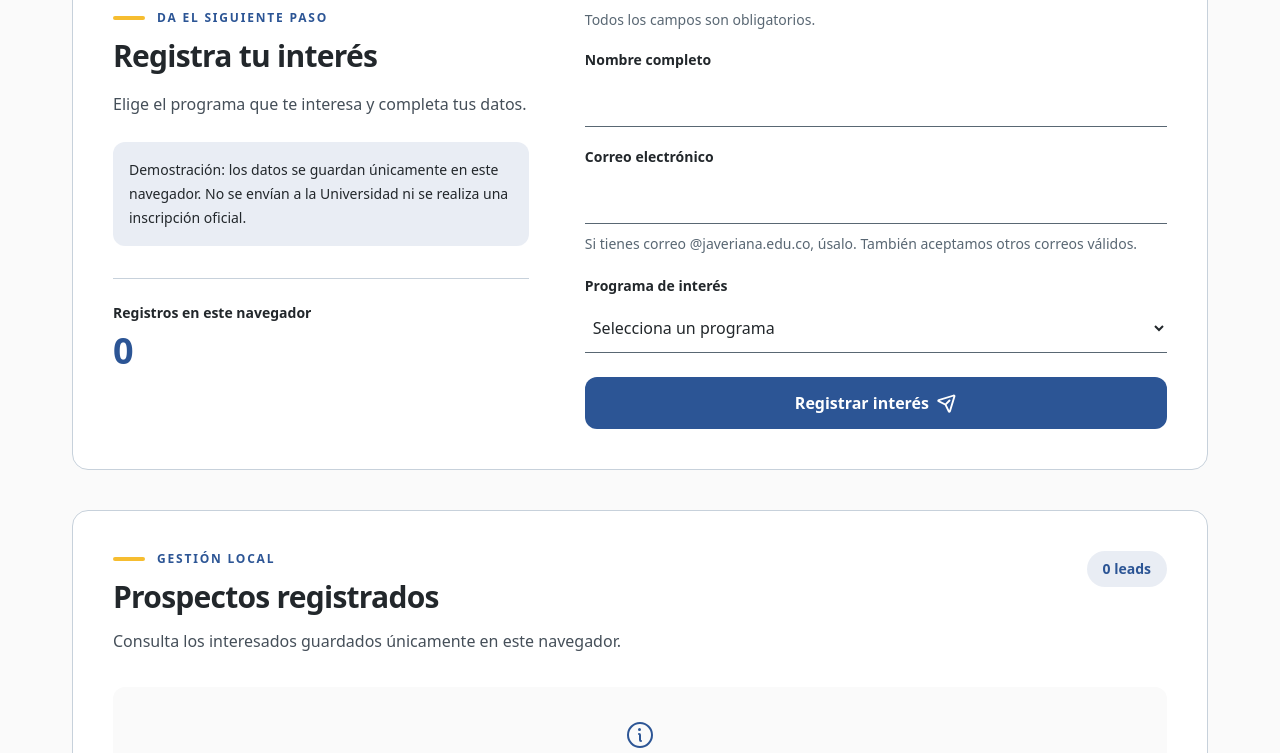
filtros y registro › limpia el error de programa al elegir desde una card tras un envío inválido
The image size is (1280, 753).
(page scrolled)
What coordinates should you click on to do the following:
click the button "Registrar interés"
I would click on:
 (876, 402)
Its box is x1=585 y1=376 x2=1167 y2=428.
(page scrolled)
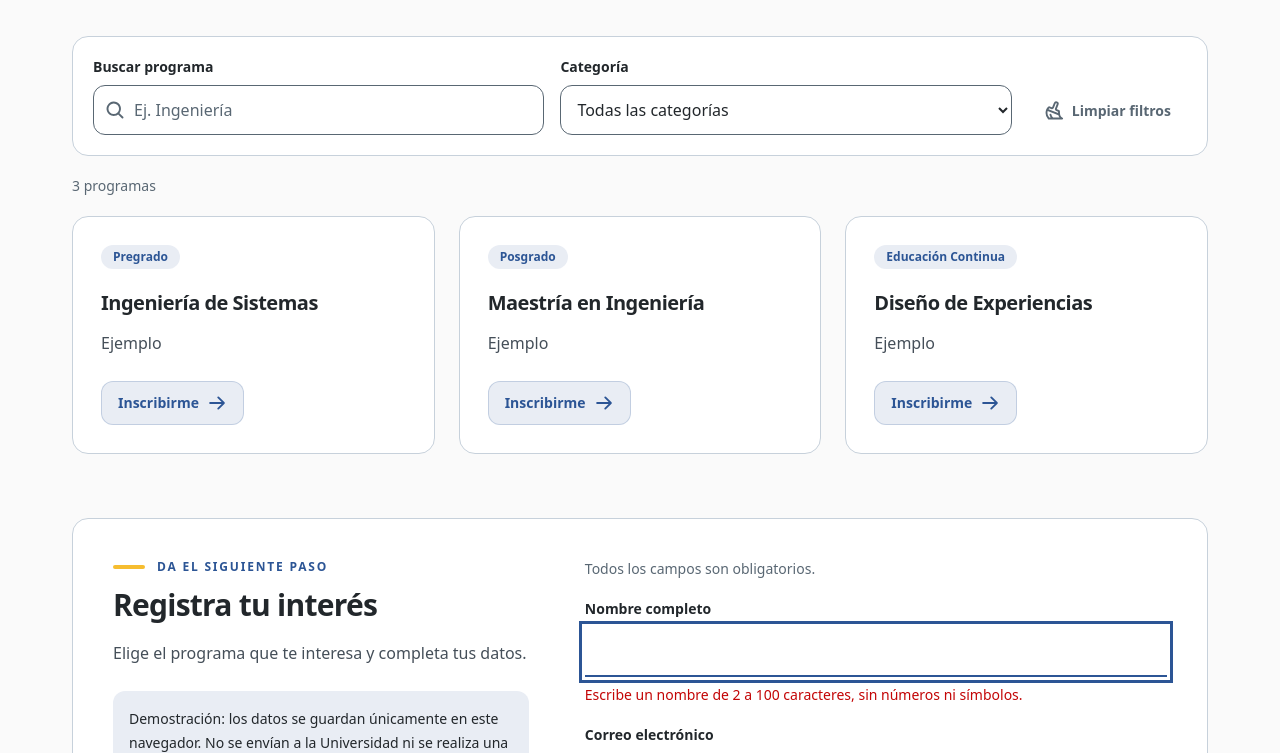
What coordinates should you click on to do the following:
click the button with aria-label "Inscribirme en Ingeniería de Sistemas"
I would click on:
 (172, 402)
Its box is x1=101 y1=380 x2=244 y2=424.
(page scrolled)
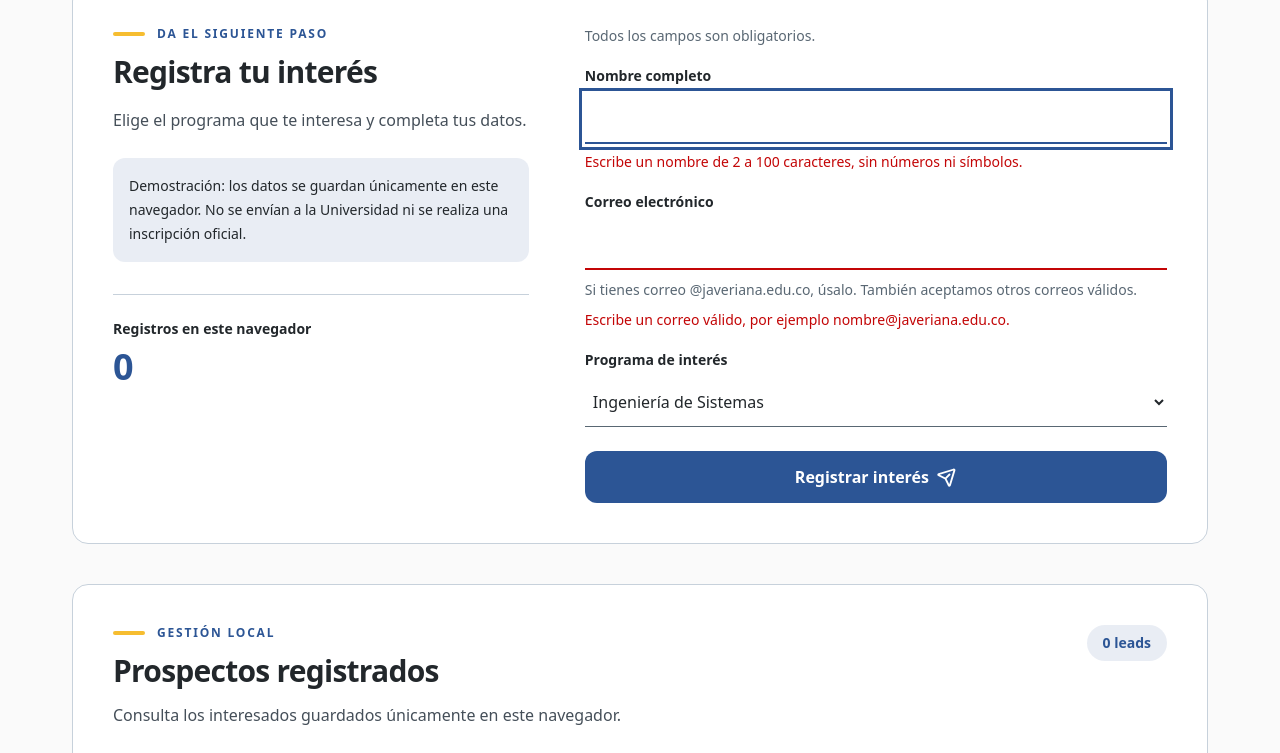
Check: the dropdown labelled "Programa de interés" shows "Ingeniería de Sistemas", box x1=585 y1=378 x2=1167 y2=426
